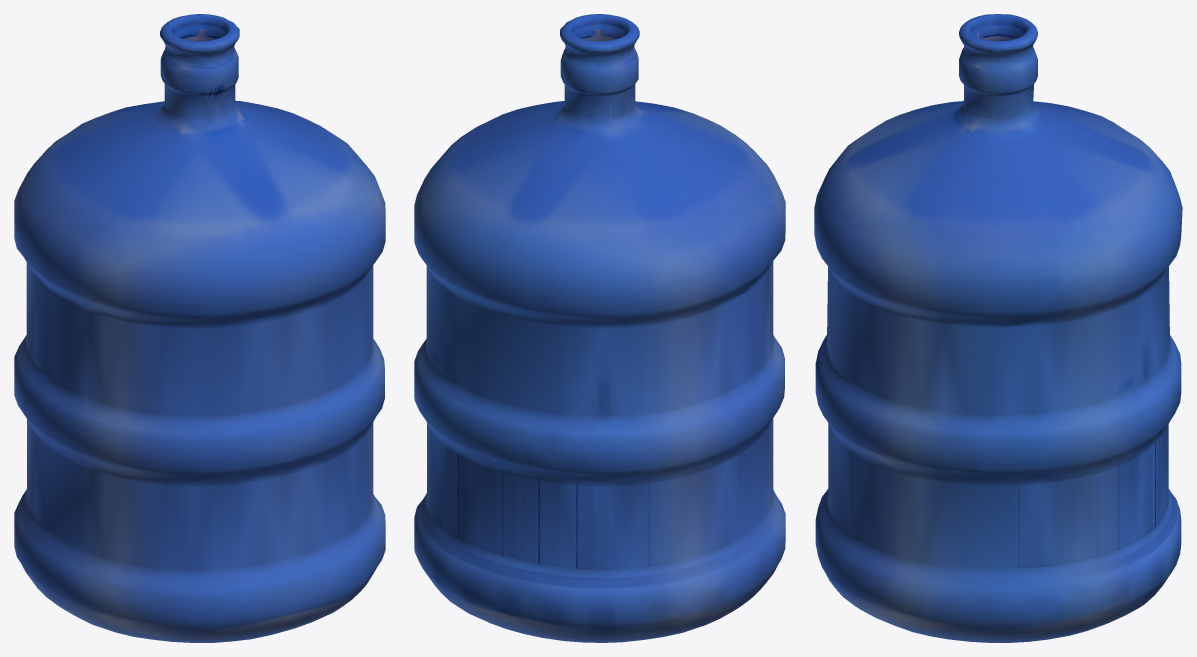
File: Meshy_AI_Water_Container_0130134658_texture.fbx
The picture shows the model from 3 angles, left to right: view 1: azimuth 30°, elevation 25°; view 2: azimuth 150°, elevation 25°; view 3: azimuth 270°, elevation 25°; orthographic projection.
Visible parts, largest first — view 1: Mesh_0; view 2: Mesh_0; view 3: Mesh_0.
Part boxes in pixels (bbox=[...]): Mesh_0: bbox=[14, 14, 385, 642]; Mesh_0: bbox=[414, 14, 785, 642]; Mesh_0: bbox=[814, 14, 1182, 642].
Size of the model in its own units: 120 by 200 by 120.
1 material, 1 textured.
